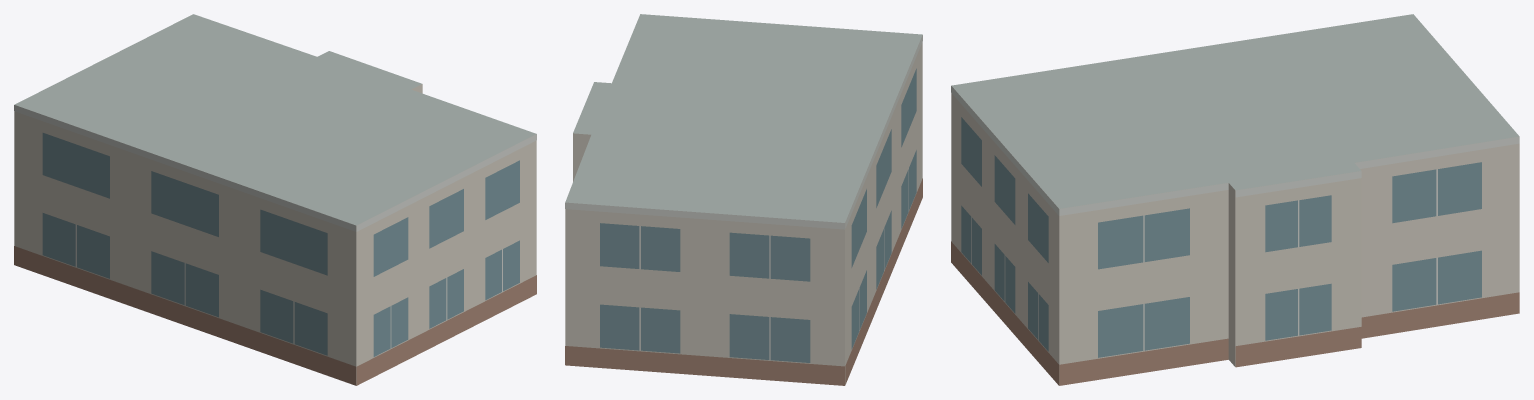
File: survey-upis-32772364.glb
The picture shows the model from 3 angles, left to right: view 1: azimuth 30°, elevation 25°; view 2: azimuth 150°, elevation 25°; view 3: azimuth 270°, elevation 25°; orthographic projection. The views are drawn at different scales.
Parts seen in each view (by area): view 1: survey-upis-32772364.tmp; view 2: survey-upis-32772364.tmp; view 3: survey-upis-32772364.tmp.
Part boxes in pixels (left/top/right/bottom): survey-upis-32772364.tmp: left=14, top=14, right=536, bottom=385; survey-upis-32772364.tmp: left=565, top=14, right=922, bottom=385; survey-upis-32772364.tmp: left=951, top=14, right=1519, bottom=385.
Size of the model in its own units: 14.43 by 6.1 by 17.77.
